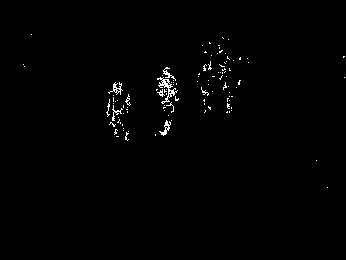person: (154, 67, 178, 136), (105, 80, 131, 141), (197, 62, 212, 113)
